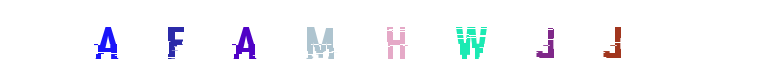A: (67, 0, 147, 80), (273, 0, 353, 80)
F: (174, 0, 254, 80)
H: (374, 0, 454, 80)
J: (484, 0, 564, 80), (575, 0, 655, 80)
M: (341, 0, 421, 80)
W: (431, 0, 511, 80)
